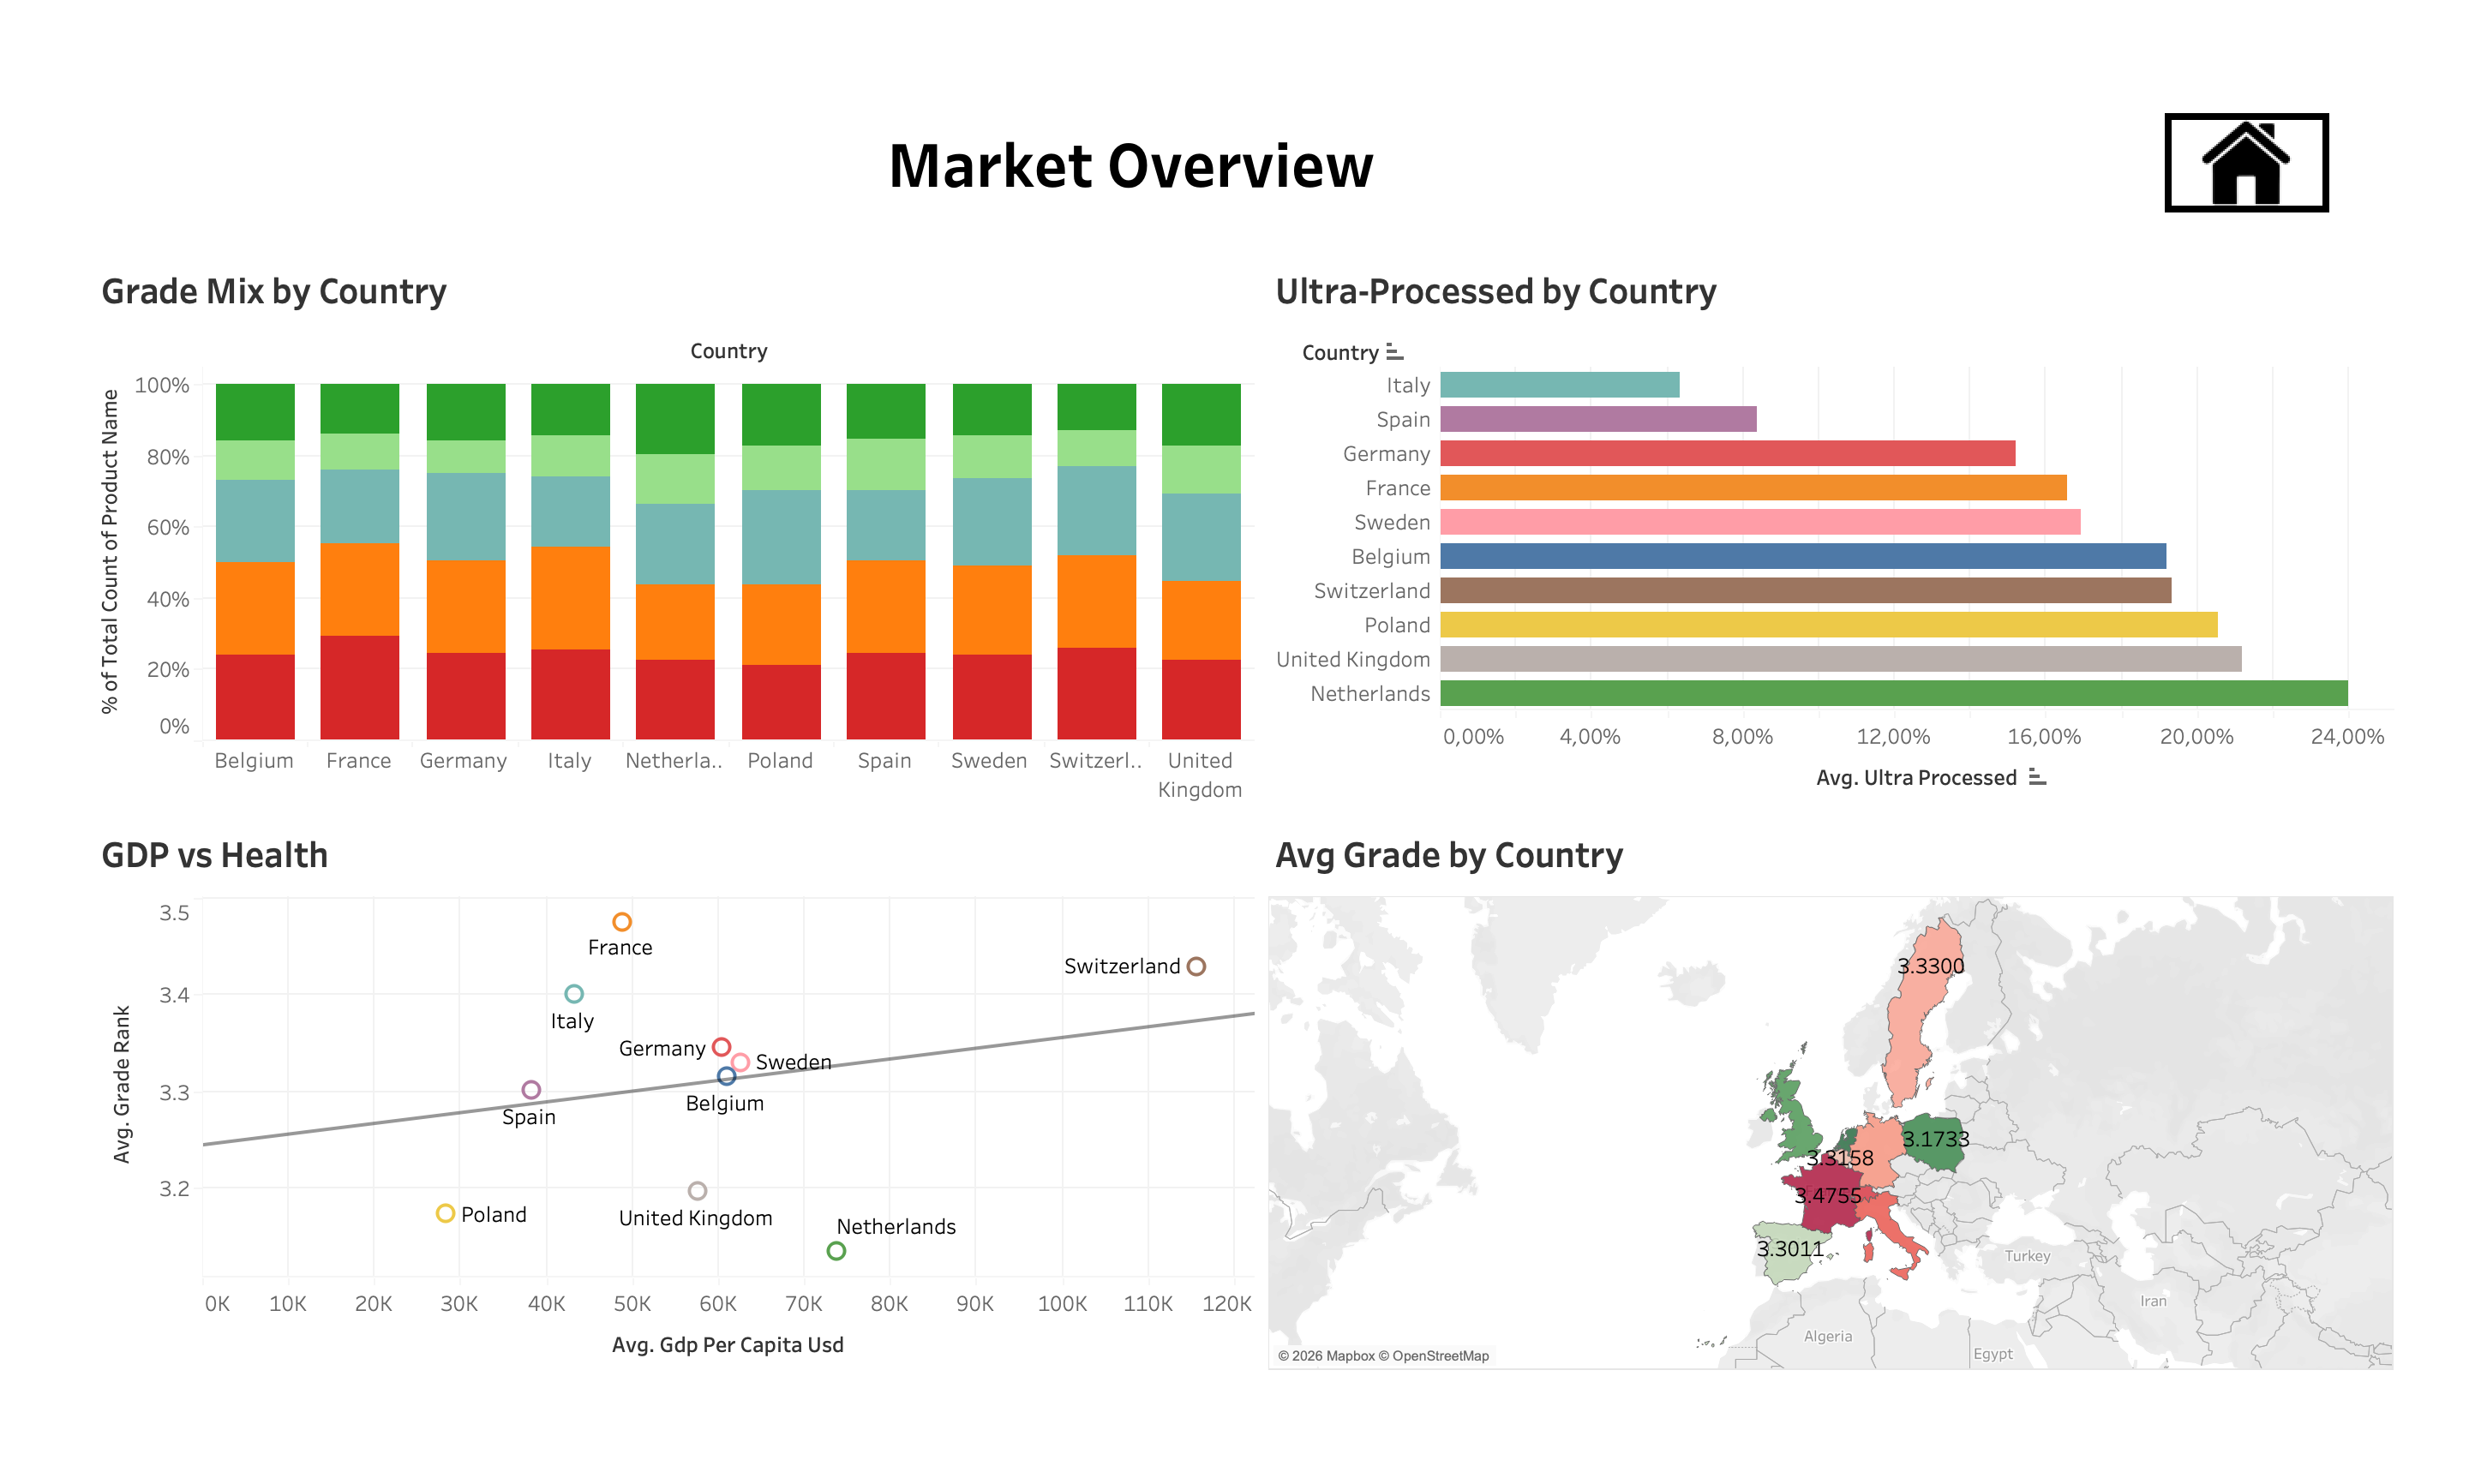

Layout of this report page (visuals, bound fields, positions):
{"tool":"tableau","page":{"name":"Dashboard 1","canvas":[1366,768],"ordinal":0},"visuals":[{"type":"text","box":[18,18,1198,66]},{"type":"dashboard-object","box":[1216,18,104,66]},{"type":"worksheet","title":"Grade Mix by Country","mark":"Bar","cols":["country"],"box":[8,103,685.2,328.5]},{"type":"worksheet","title":"Ultra-Processed by Country","mark":"Automatic","rows":["country"],"cols":["Calculation_0177521376698369"],"box":[693.2,103,664.8,328.5]},{"type":"worksheet","title":"GDP vs Health","mark":"Automatic","rows":["Calculation_0177521376419840"],"cols":["gdp_per_capita_usd"],"box":[8,431.5,685.2,328.5]},{"type":"worksheet","title":"MAP","mark":"Automatic","box":[693.2,431.5,664.8,328.5]}]}

Visuals, with their boxes on the page's 1366x768 design canvas (x1, y1, x2, y2). These are canvas units, not pixel positions in the 2487x1484 screenshot, which may show the page scaled, cropped or inside an application window:
text: 18:18:1216:84
dashboard-object: 1216:18:1320:84
"Grade Mix by Country" worksheet (Bar marks): 8:103:693:432
"Ultra-Processed by Country" worksheet: 693:103:1358:432
"GDP vs Health" worksheet: 8:432:693:760
"MAP" worksheet: 693:432:1358:760
